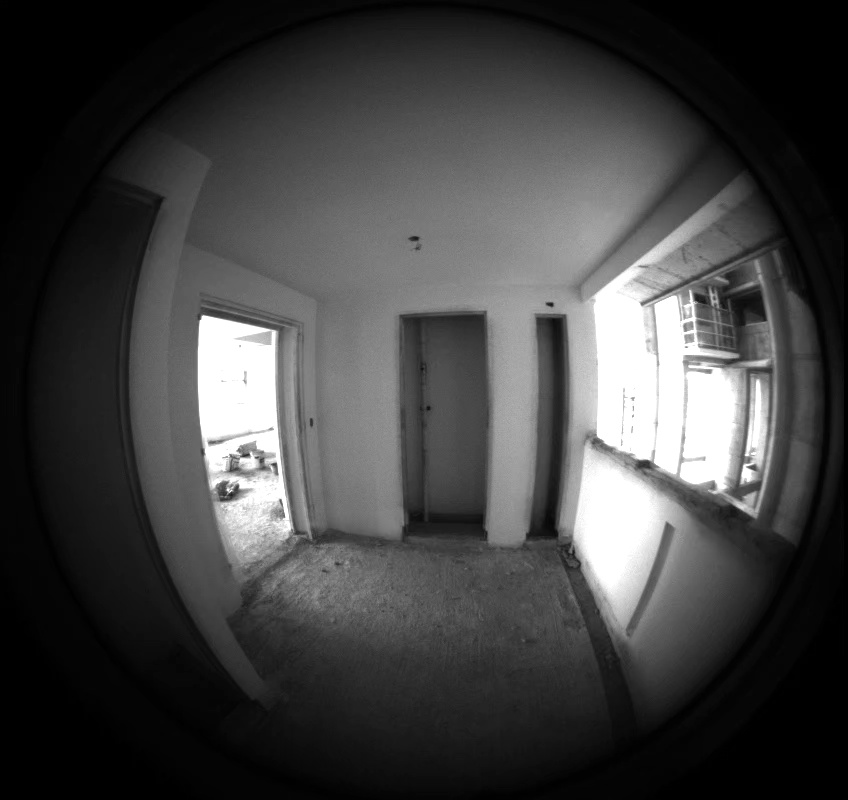Ceiling: (0, 0, 709, 538)
Door: (86, 209, 482, 522), (93, 267, 291, 581)
Tools: (24, 20, 239, 500)
Wall: (219, 302, 792, 731)
